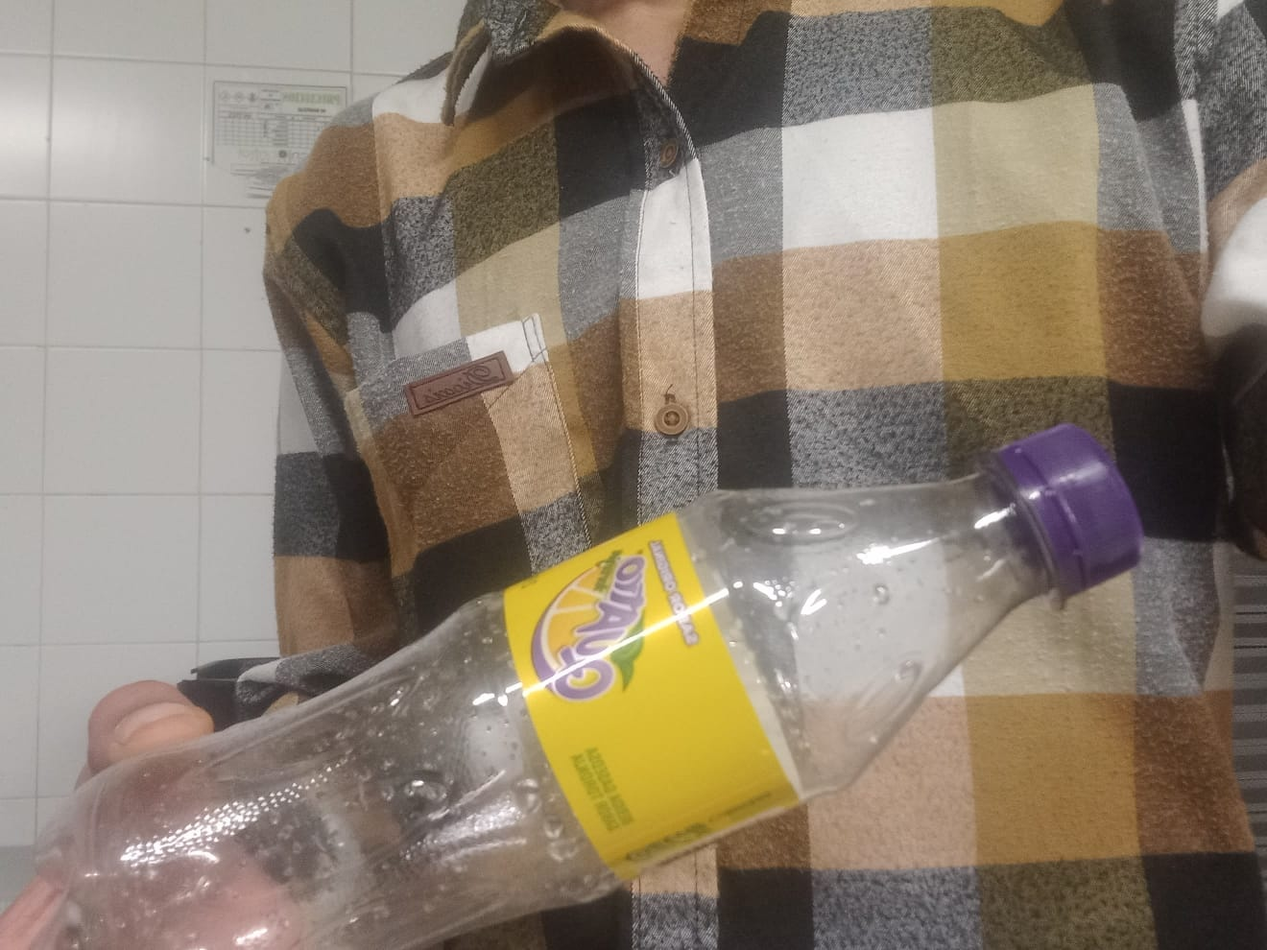Plastico: (34, 427, 1149, 950)
